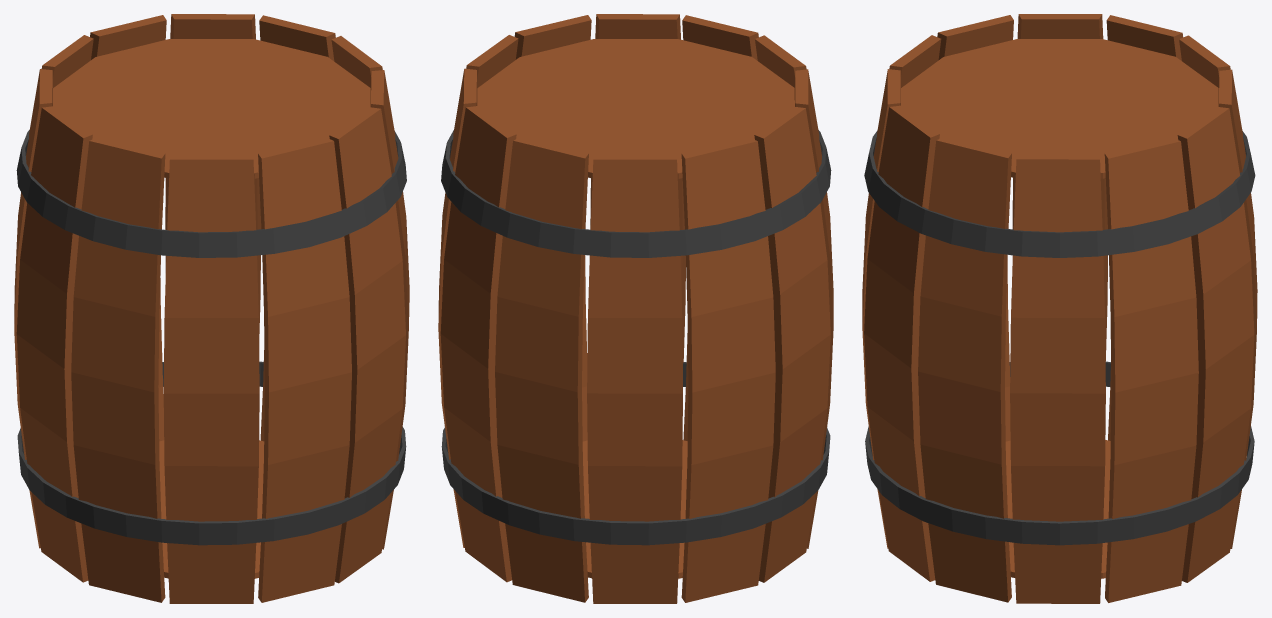
Rendered from Barrel 1.glb.
The picture shows the model from 3 angles, left to right: view 1: azimuth 30°, elevation 25°; view 2: azimuth 150°, elevation 25°; view 3: azimuth 270°, elevation 25°; orthographic projection.
Parts seen in each view (by area): view 1: Barrel1; view 2: Barrel1; view 3: Barrel1.
Part boxes in pixels (bbox=[...]): Barrel1: bbox=[14, 14, 409, 603]; Barrel1: bbox=[438, 14, 833, 603]; Barrel1: bbox=[862, 14, 1257, 603].
Size of the model in its own units: 0.5909 by 0.7326 by 0.5905.
